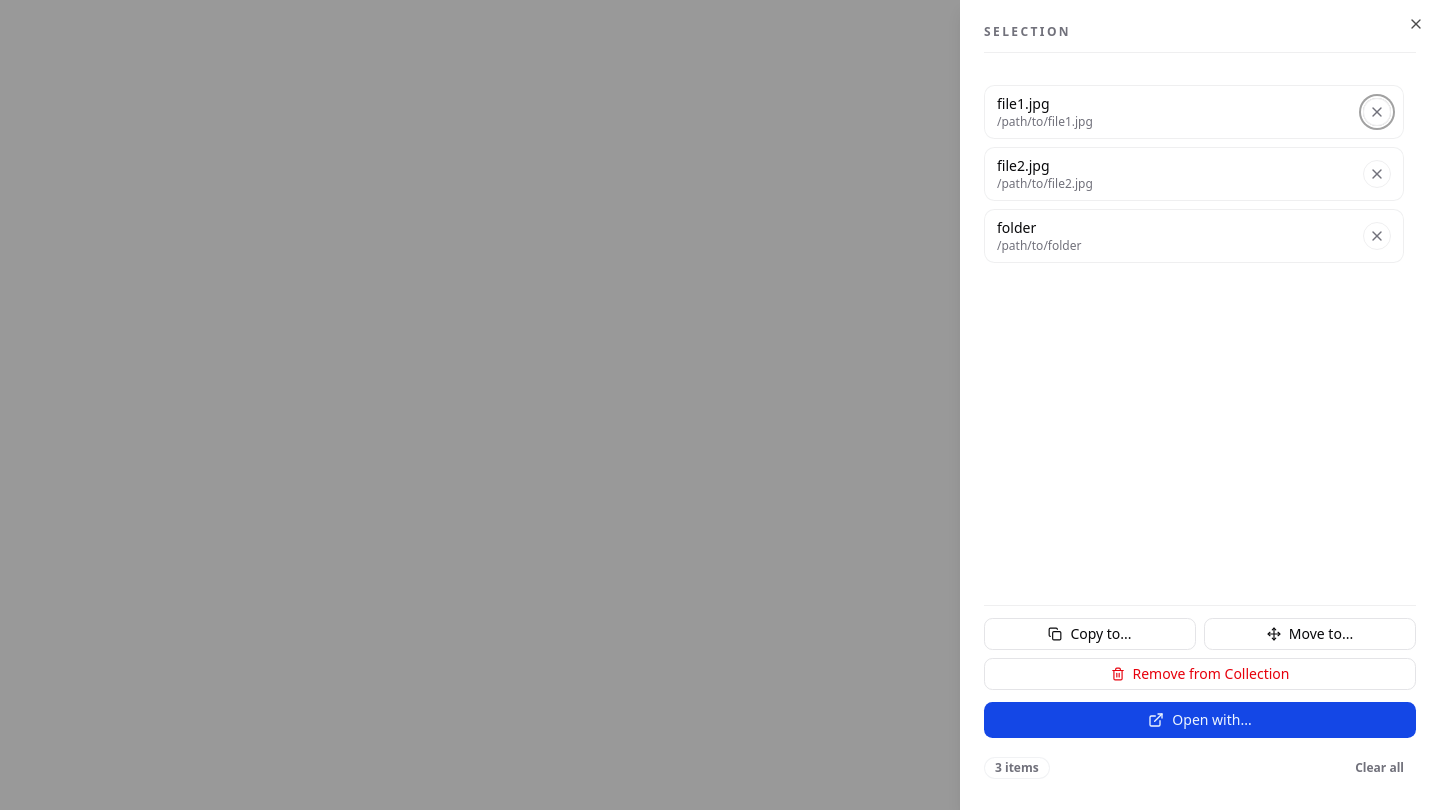
Scenario: CollectionSelectionSheet › opens resolution modal for selections with folders
Click the button "Open with..." at [1200, 720], box [984,702,1416,738]
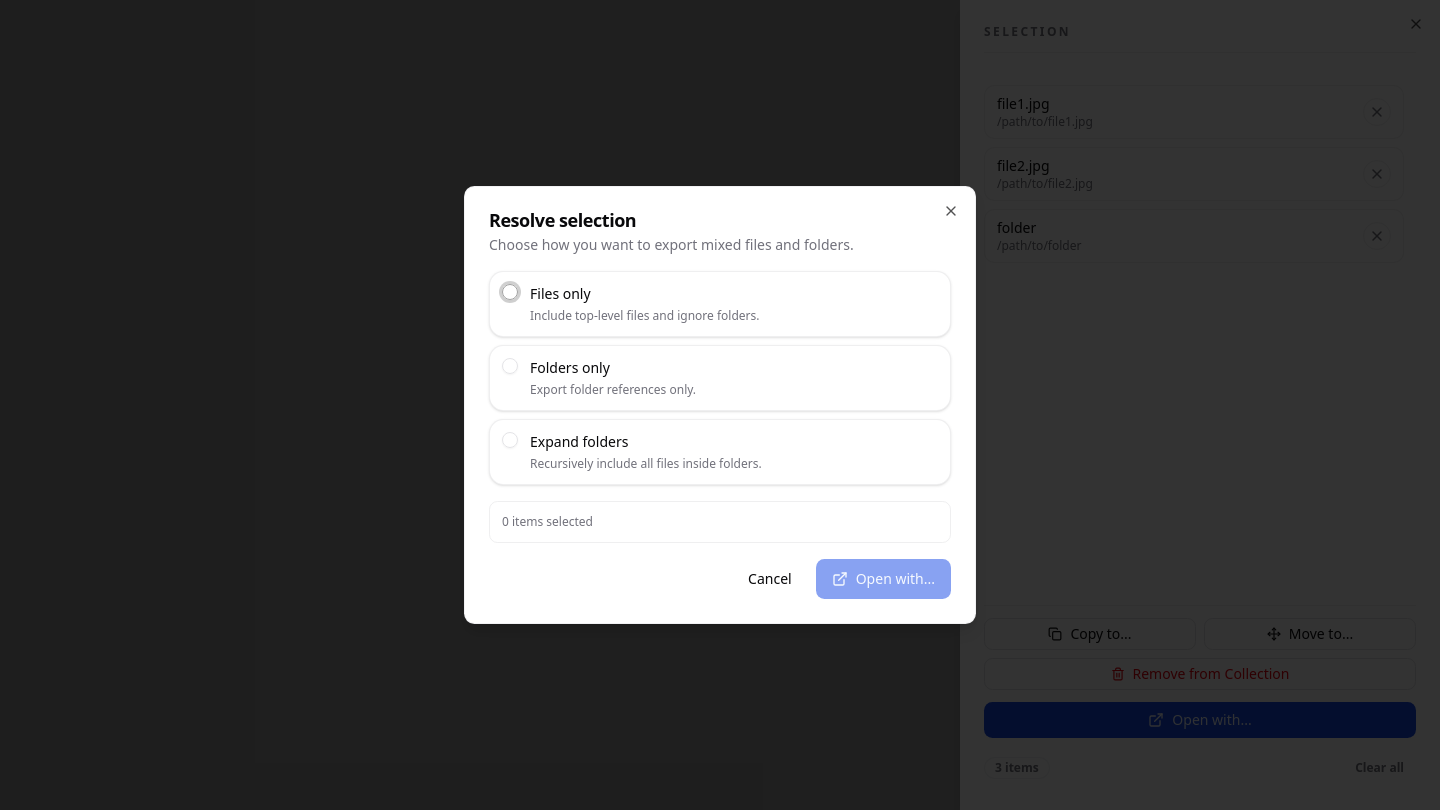
Check: the heading "Resolve selection" is shown, box [489,208,636,232]
